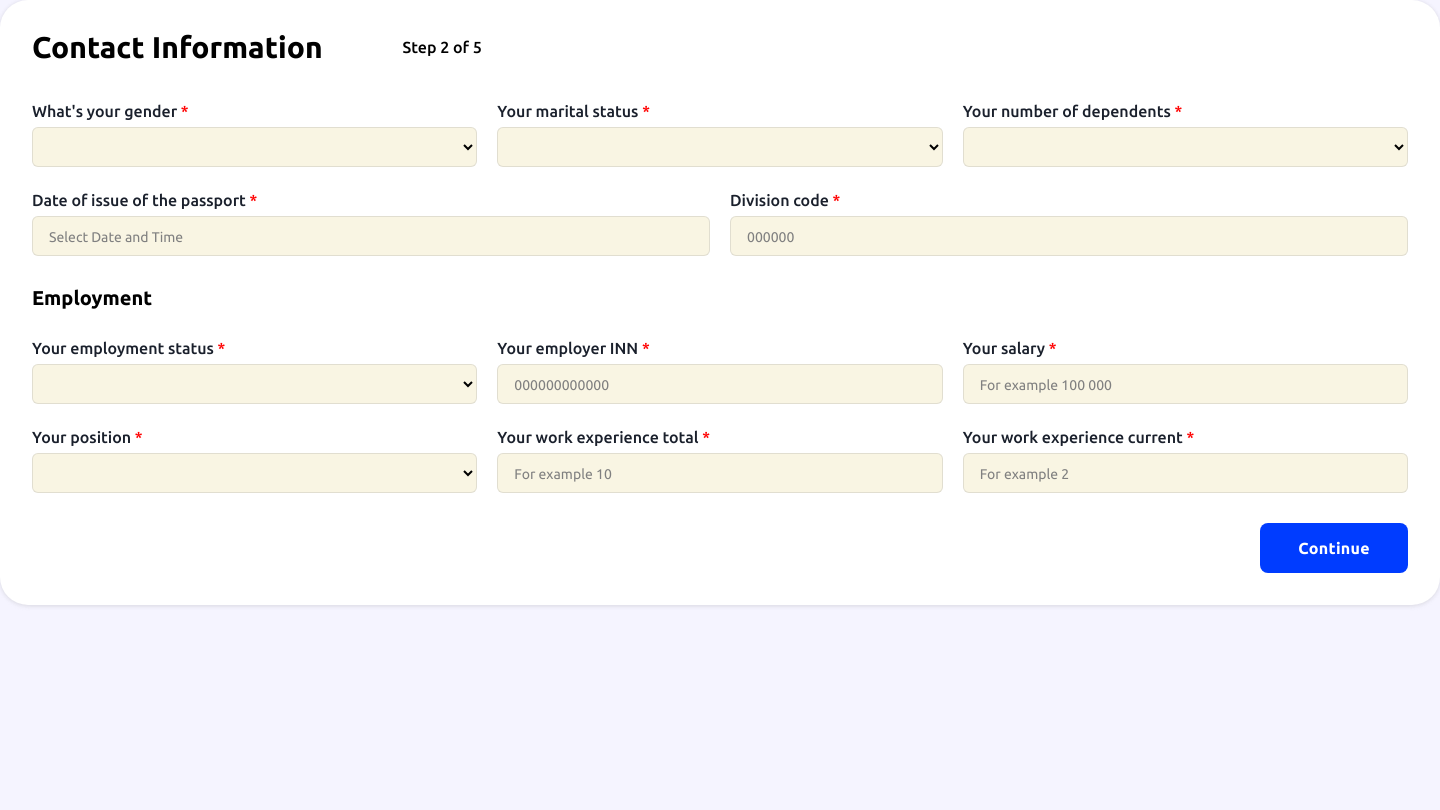
Test case: Scoring › Invalid date of passport issue
Click the button at (1334, 548), box [1260, 523, 1408, 573]
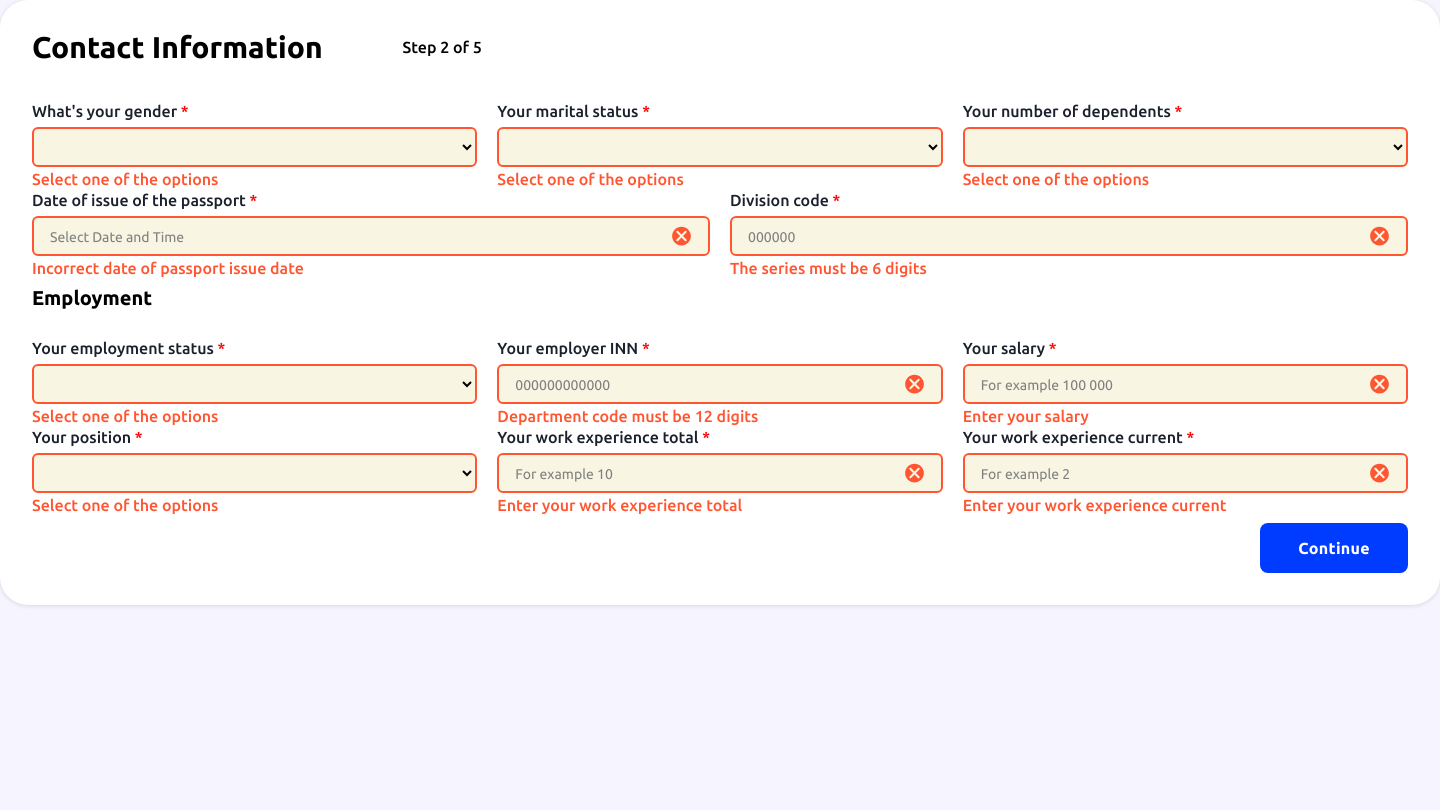
Type "2000-01-01" into the field with placeholder "Select Date and Time" at (371, 236), box [32, 216, 710, 256]
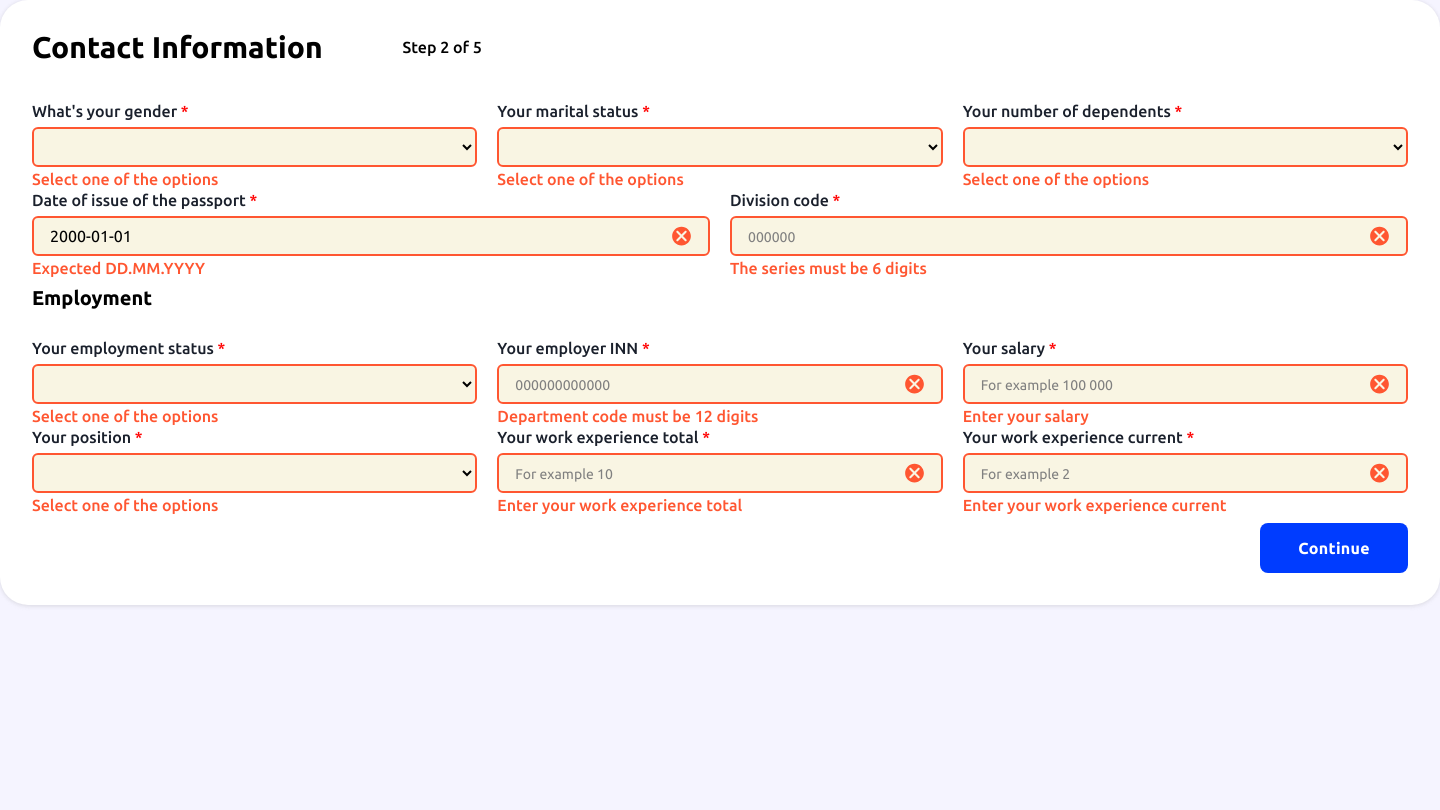
Expected: the text "Expected DD.MM.YYYY" is shown, [32, 260, 205, 276]
Replace the text in the field with placeholder "Select Date and Time" with "date and time" at (371, 236), box [32, 216, 710, 256]
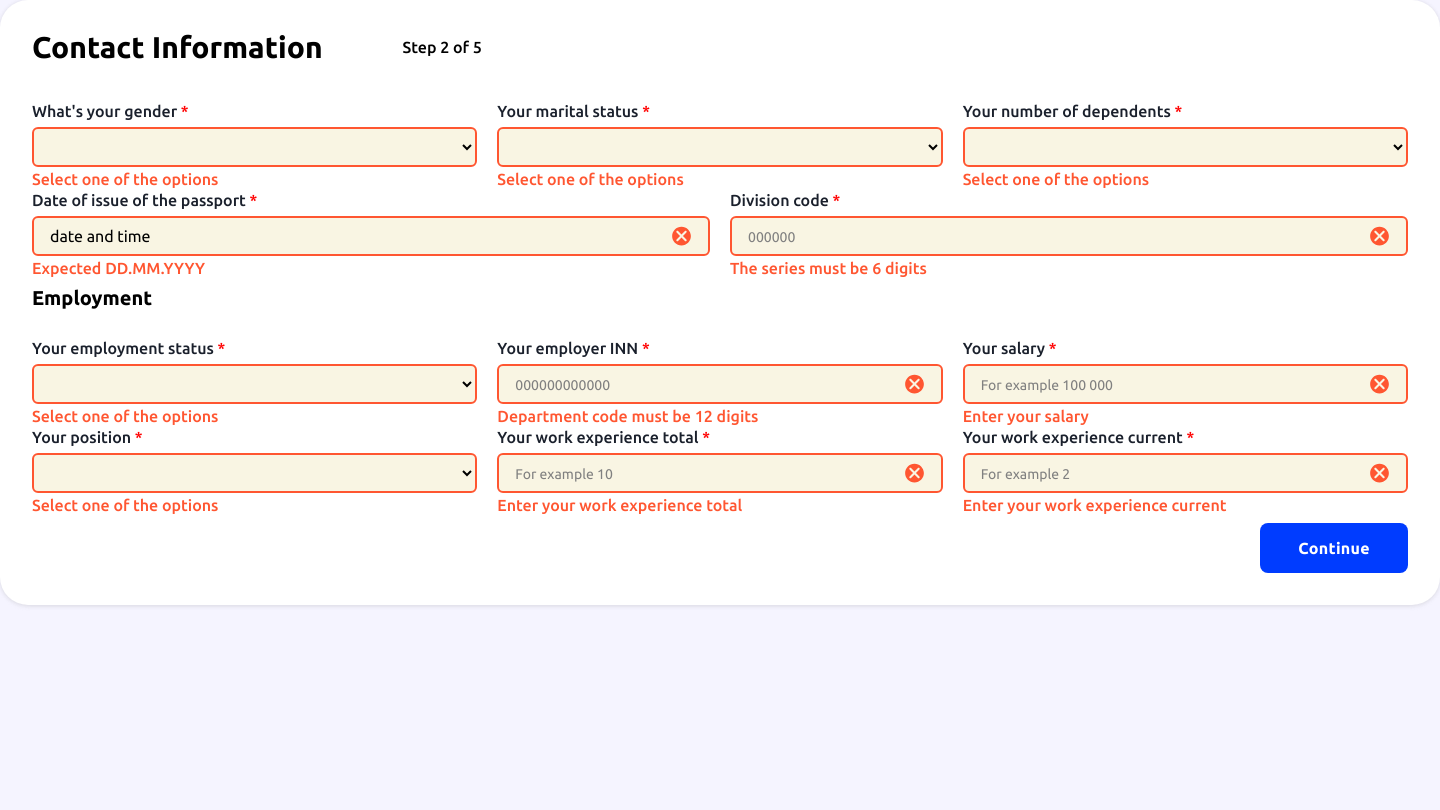
Expected: the text "Expected DD.MM.YYYY" is shown, [32, 260, 205, 276]
Replace the text in the field with placeholder "Select Date and Time" with "40.10.2000" at (371, 236), box [32, 216, 710, 256]
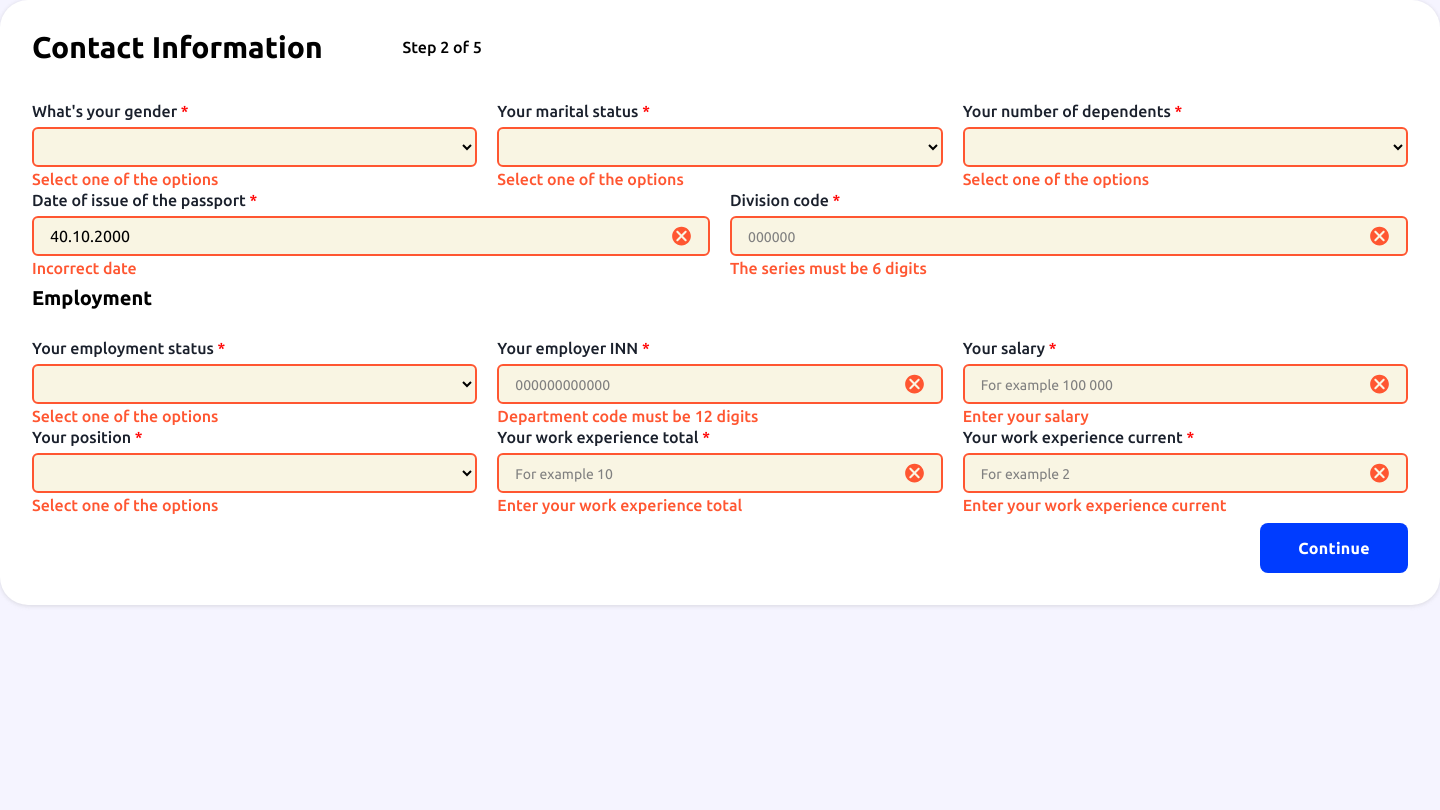
Expected: the text "Incorrect date" is shown, [32, 260, 137, 276]
